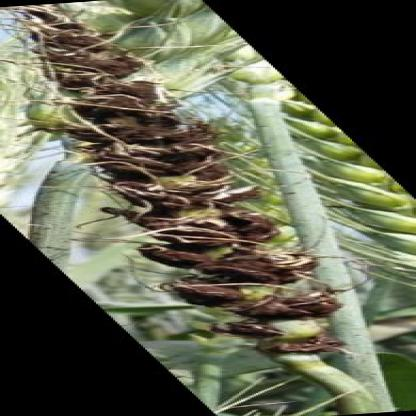Wheat Smut: (152, 241, 312, 275), (124, 202, 270, 231), (81, 99, 187, 138), (120, 156, 217, 197), (198, 289, 360, 313), (60, 61, 124, 90), (38, 20, 100, 49), (266, 340, 335, 352), (220, 318, 263, 336)
